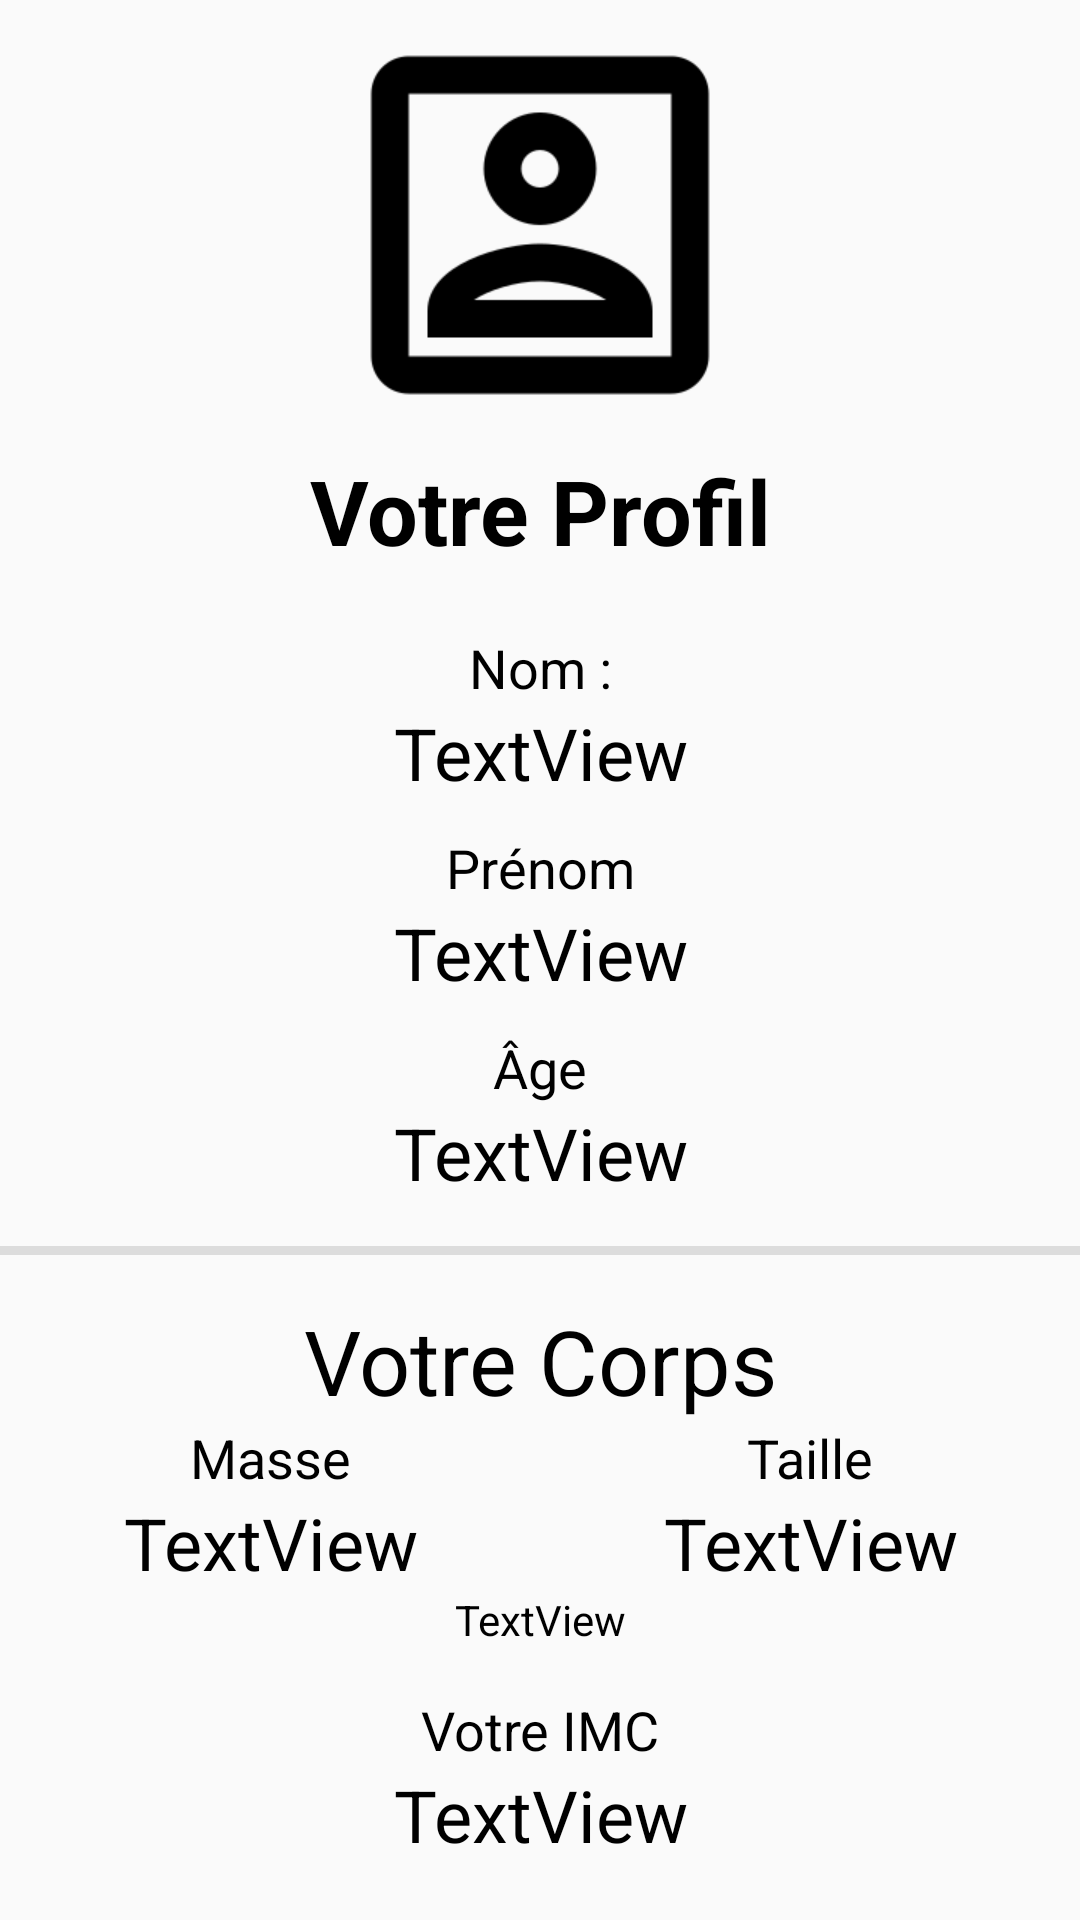

Locate icon controls on the screen. Image size 1080 × 1920, boxes as (x1=x1, y1=y1, x2=x2, y2=y2).
portrait: (x1=370, y1=55, x2=710, y2=395)
